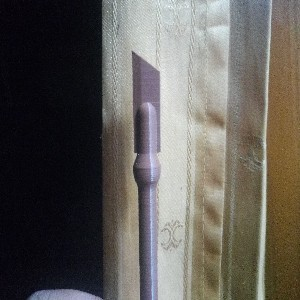cutter: (130, 49, 162, 300)
